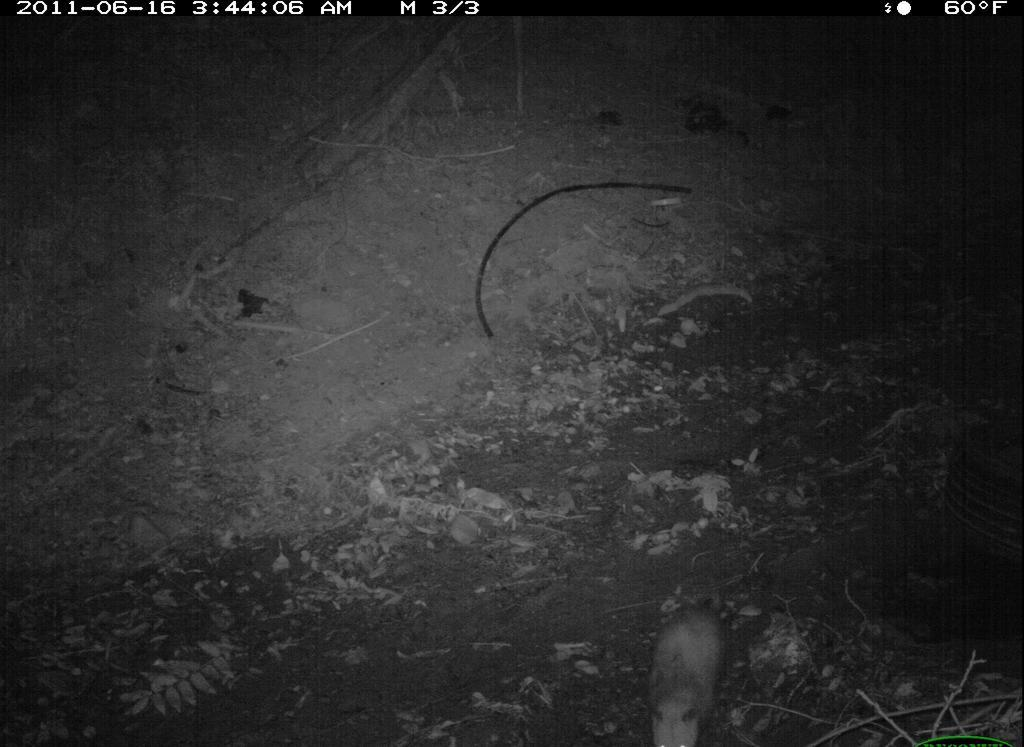opossum: (635, 568, 748, 747)
